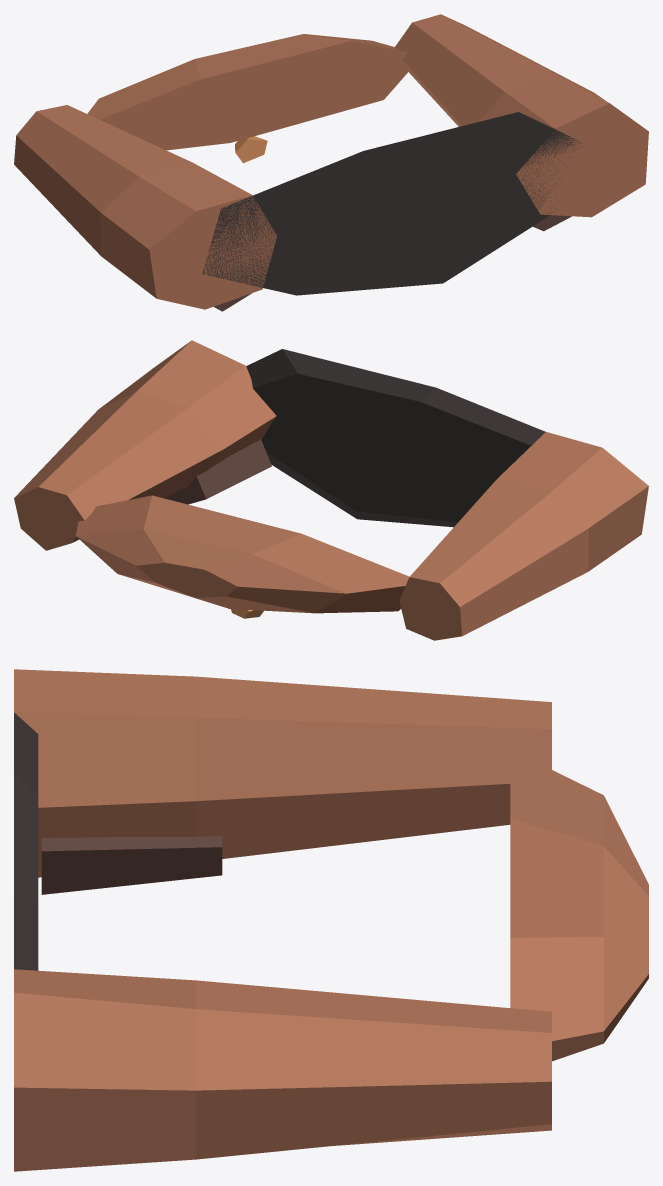
Rendered from CrashBasinRockArch.fbx.
3 renders of one model, top to bottom at view 1: azimuth 30°, elevation 25°; view 2: azimuth 150°, elevation 25°; view 3: azimuth 270°, elevation 25°, orthographic. The views are drawn at different scales.
Parts seen in each view (by area): view 1: ArchFoot, ArchPillar, ArchPillar.001, ArchBeam, ArchAccent; view 2: ArchFoot, ArchPillar, ArchPillar.001, ArchBeam, ArchShadow.001; view 3: ArchPillar.001, ArchPillar, ArchBeam, ArchShadow, ArchFoot.
Part boxes in pixels (bbox=[...]): ArchFoot: bbox=[202, 112, 583, 295]; ArchPillar: bbox=[14, 105, 276, 309]; ArchPillar.001: bbox=[394, 14, 648, 217]; ArchBeam: bbox=[87, 34, 409, 150]; ArchAccent: bbox=[235, 136, 267, 163]; ArchFoot: bbox=[246, 349, 545, 527]; ArchPillar: bbox=[399, 432, 648, 640]; ArchPillar.001: bbox=[14, 340, 276, 550]; ArchBeam: bbox=[75, 495, 409, 613]; ArchShadow.001: bbox=[164, 439, 271, 504]; ArchPillar.001: bbox=[14, 969, 551, 1171]; ArchPillar: bbox=[14, 669, 551, 877]; ArchBeam: bbox=[510, 756, 648, 1061]; ArchShadow: bbox=[41, 835, 222, 894]; ArchFoot: bbox=[14, 712, 38, 970].
Size of the model in its own units: 553 by 162 by 366.
